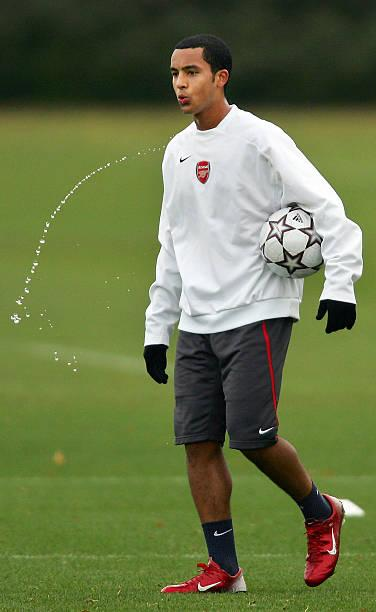Spitting: (90, 29, 255, 186)
